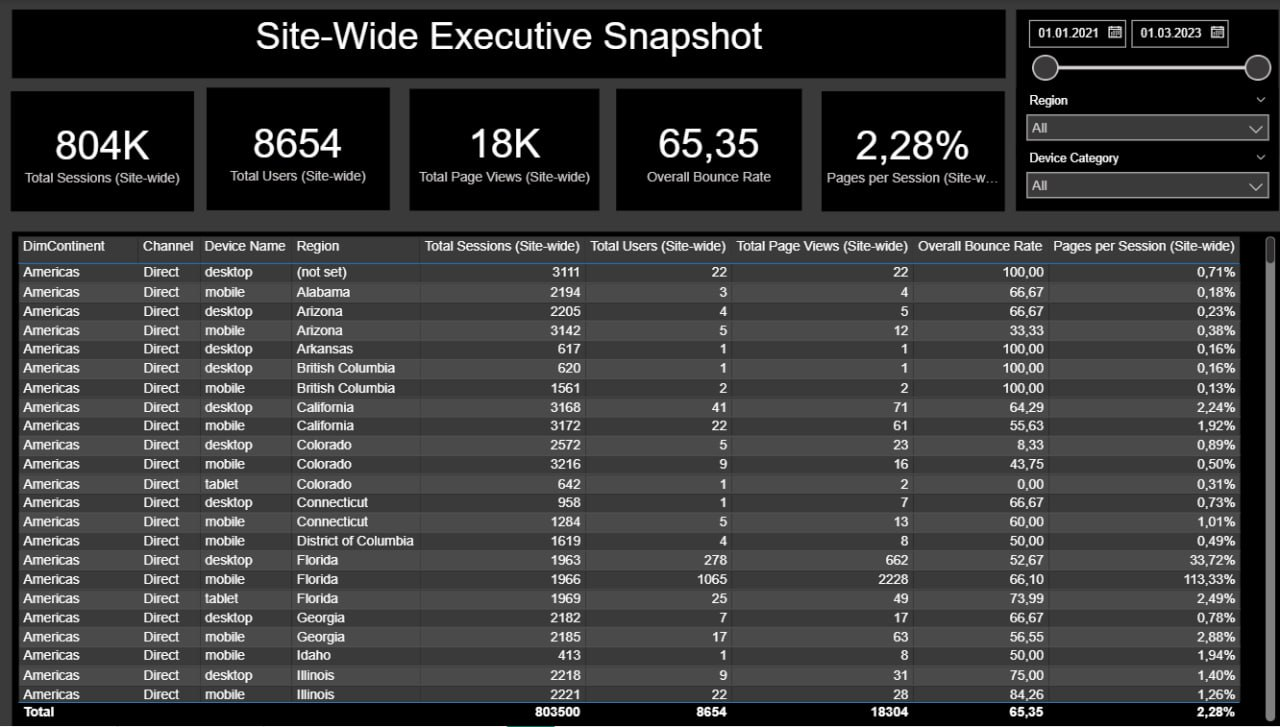

What the dashboard file says about the page in this screenshot:
{"tool":"powerbi","page":{"name":"Site-Wide Executive Snapshot","canvas":[1280,720],"ordinal":2},"visuals":[{"type":"textbox","box":[11.3,9.9,985,68],"z":0},{"type":"textbox","box":[1007.6,9.7,260.2,199.3],"z":1000},{"type":"slicer","fields":{"Values":["Region.DimRegion"]},"box":[1007.6,88.6,260.2,66.4],"z":2000},{"type":"slicer","fields":{"Values":["vwDates.FullDate"]},"box":[1007.6,9.7,260.2,77.5],"z":3000},{"type":"slicer","fields":{"Values":["Device.DimDeviceCategory"]},"box":[1007.6,145.3,260.2,63.7],"z":4000},{"type":"card","fields":{"Values":["Fact_GA_SiteWide.Total Sessions (Site-wide)"]},"box":[11.1,90,181.3,119],"z":5000},{"type":"card","fields":{"Values":["Fact_GA_SiteWide.Total Users (Site-wide)"]},"box":[204.8,87.2,181.3,121.8],"z":6000},{"type":"card","fields":{"Values":["Fact_GA_SiteWide.Total Page Views (Site-wide)"]},"box":[405.5,88.6,188.2,120.4],"z":7000},{"type":"card","fields":{"Values":["Fact_GA_SiteWide.Overall Bounce Rate"]},"box":[610.4,88.6,184.1,120.4],"z":8000},{"type":"card","fields":{"Values":["Fact_GA_SiteWide.Pages per Session (Site-wide)"]},"box":[813.8,90,181.3,119],"z":9000},{"type":"tableEx","fields":{"Values":["Fact_GA_SiteWide.DimContinent","Channel.DimChannel","Device.DimDeviceCategory","Region.DimRegion","Fact_GA_SiteWide.Total Sessions (Site-wide)","Fact_GA_SiteWide.Total Users (Site-wide)","Fact_GA_SiteWide.Total Page Views (Site-wide)","Fact_GA_SiteWide.Overall Bounce Rate","Fact_GA_SiteWide.Pages per Session (Site-wide)"]},"box":[11.8,230,1256.7,490.5],"z":25000}]}

Visuals, with their boxes in screenshot pixels (x1, y1, x2, y2), scaled from the page's 1280x720 canvas onto the 1280x727 screenshot:
textbox: box(11, 10, 996, 79)
textbox: box(1008, 10, 1268, 211)
slicer - Region.DimRegion: box(1008, 89, 1268, 157)
slicer - vwDates.FullDate: box(1008, 10, 1268, 88)
slicer - Device.DimDeviceCategory: box(1008, 147, 1268, 211)
card - Fact_GA_SiteWide.Total Sessions (Site-wide): box(11, 91, 192, 211)
card - Fact_GA_SiteWide.Total Users (Site-wide): box(205, 88, 386, 211)
card - Fact_GA_SiteWide.Total Page Views (Site-wide): box(406, 89, 594, 211)
card - Fact_GA_SiteWide.Overall Bounce Rate: box(610, 89, 794, 211)
card - Fact_GA_SiteWide.Pages per Session (Site-wide): box(814, 91, 995, 211)
tableEx - Fact_GA_SiteWide.DimContinent x Channel.DimChannel: box(12, 232, 1268, 726)
